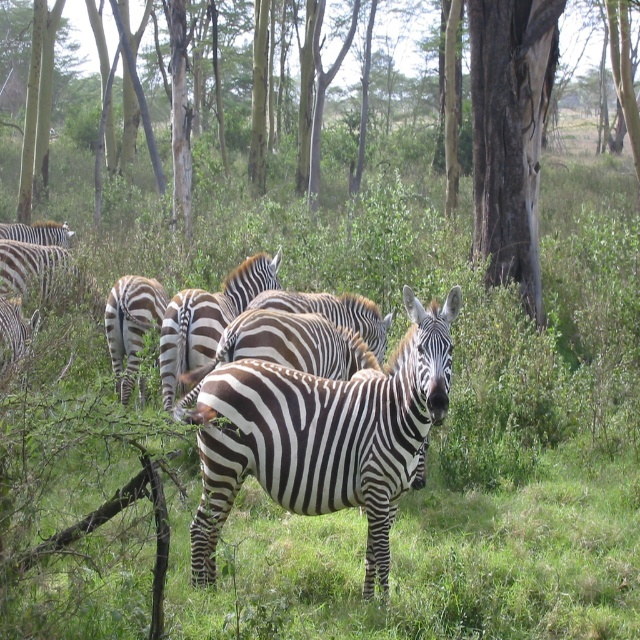Zebra: (0, 219, 462, 616)
